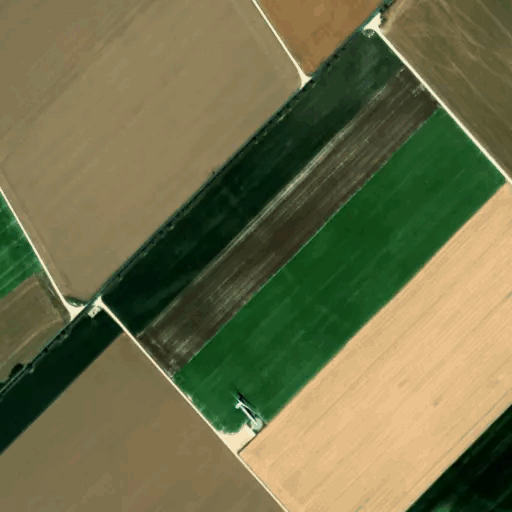wt: (222, 378, 280, 447)
